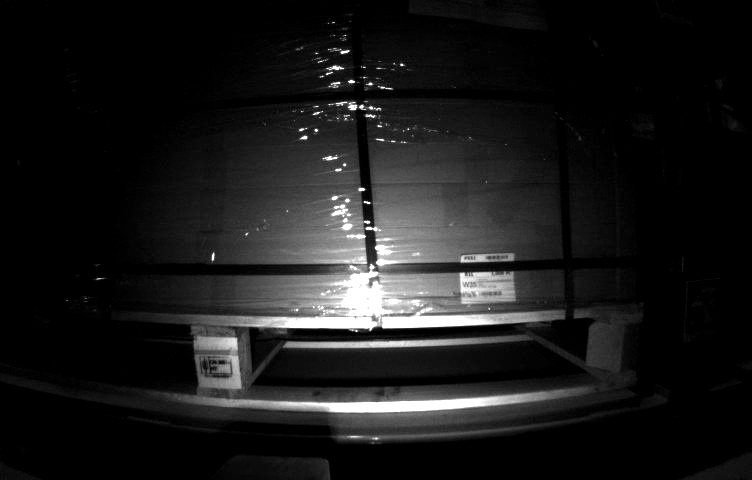True Barcode: (459, 254, 517, 301)
